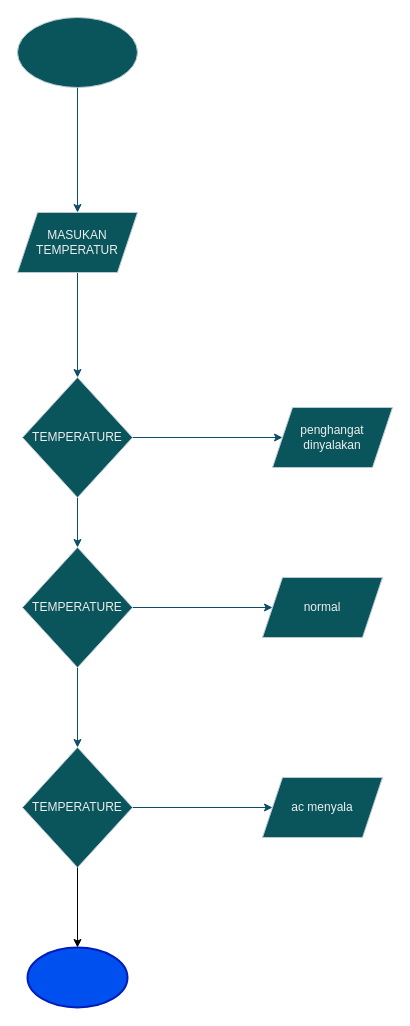
The diagram is 410 pixels wide and 1026 high, and some of its shapes have lost their labels. Each missing label, with the centre of its shape:
"end" goes at point (77, 977).
"START" goes at point (77, 52).
